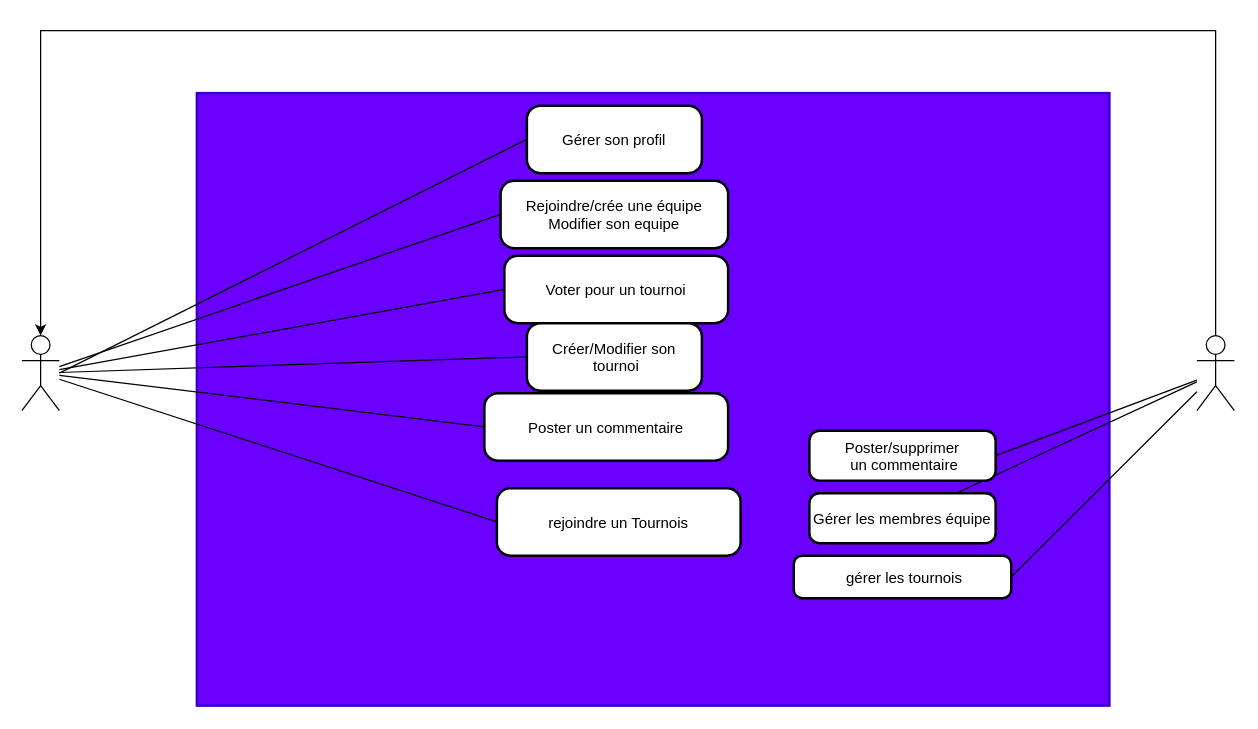
The diagram is 1258 pixels wide and 729 high, and some of its shapes have lost their labels. The centre of each missing label's shape, as x and y in pixels:
"admin" goes at pixel 1215 372.
"user" goes at pixel 40 372.
